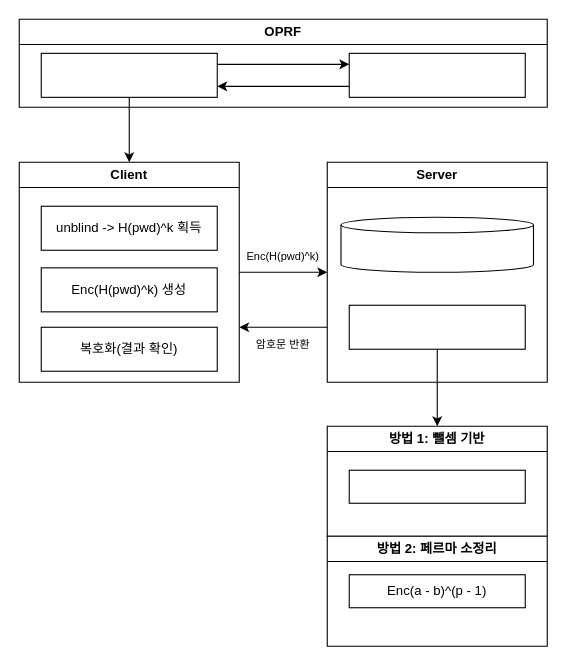
The diagram is 567 pixels wide and 666 high, and some of its shapes have lost their labels. The centre of each missing label's shape, as x and y in pixels:
Client: H(pwd)^r 전송: pixel 128 74
DB: H(pwd_i)^k 저장: pixel 437 244
Enc(a) - b = Enc(a - b): pixel 436 486
Homomorphic Encryption 연산 수행: pixel 436 326
Server: (H(pwd)^r)^k 반환: pixel 436 74
